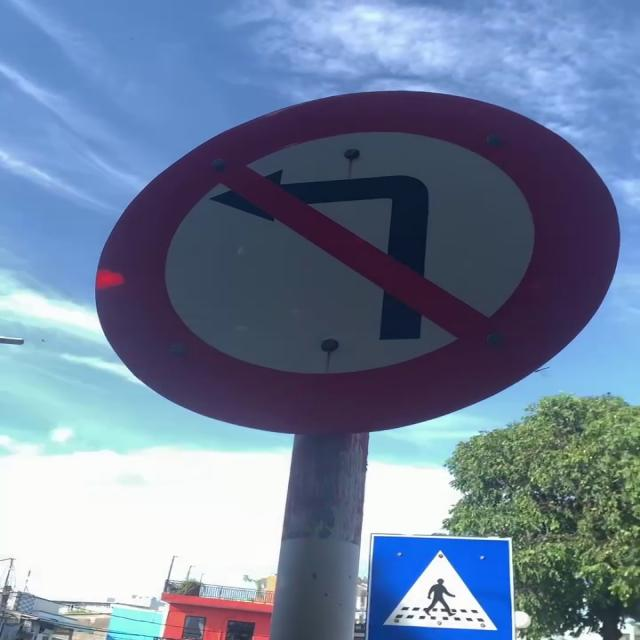Cam_Re_Trai: (91, 87, 620, 443)
